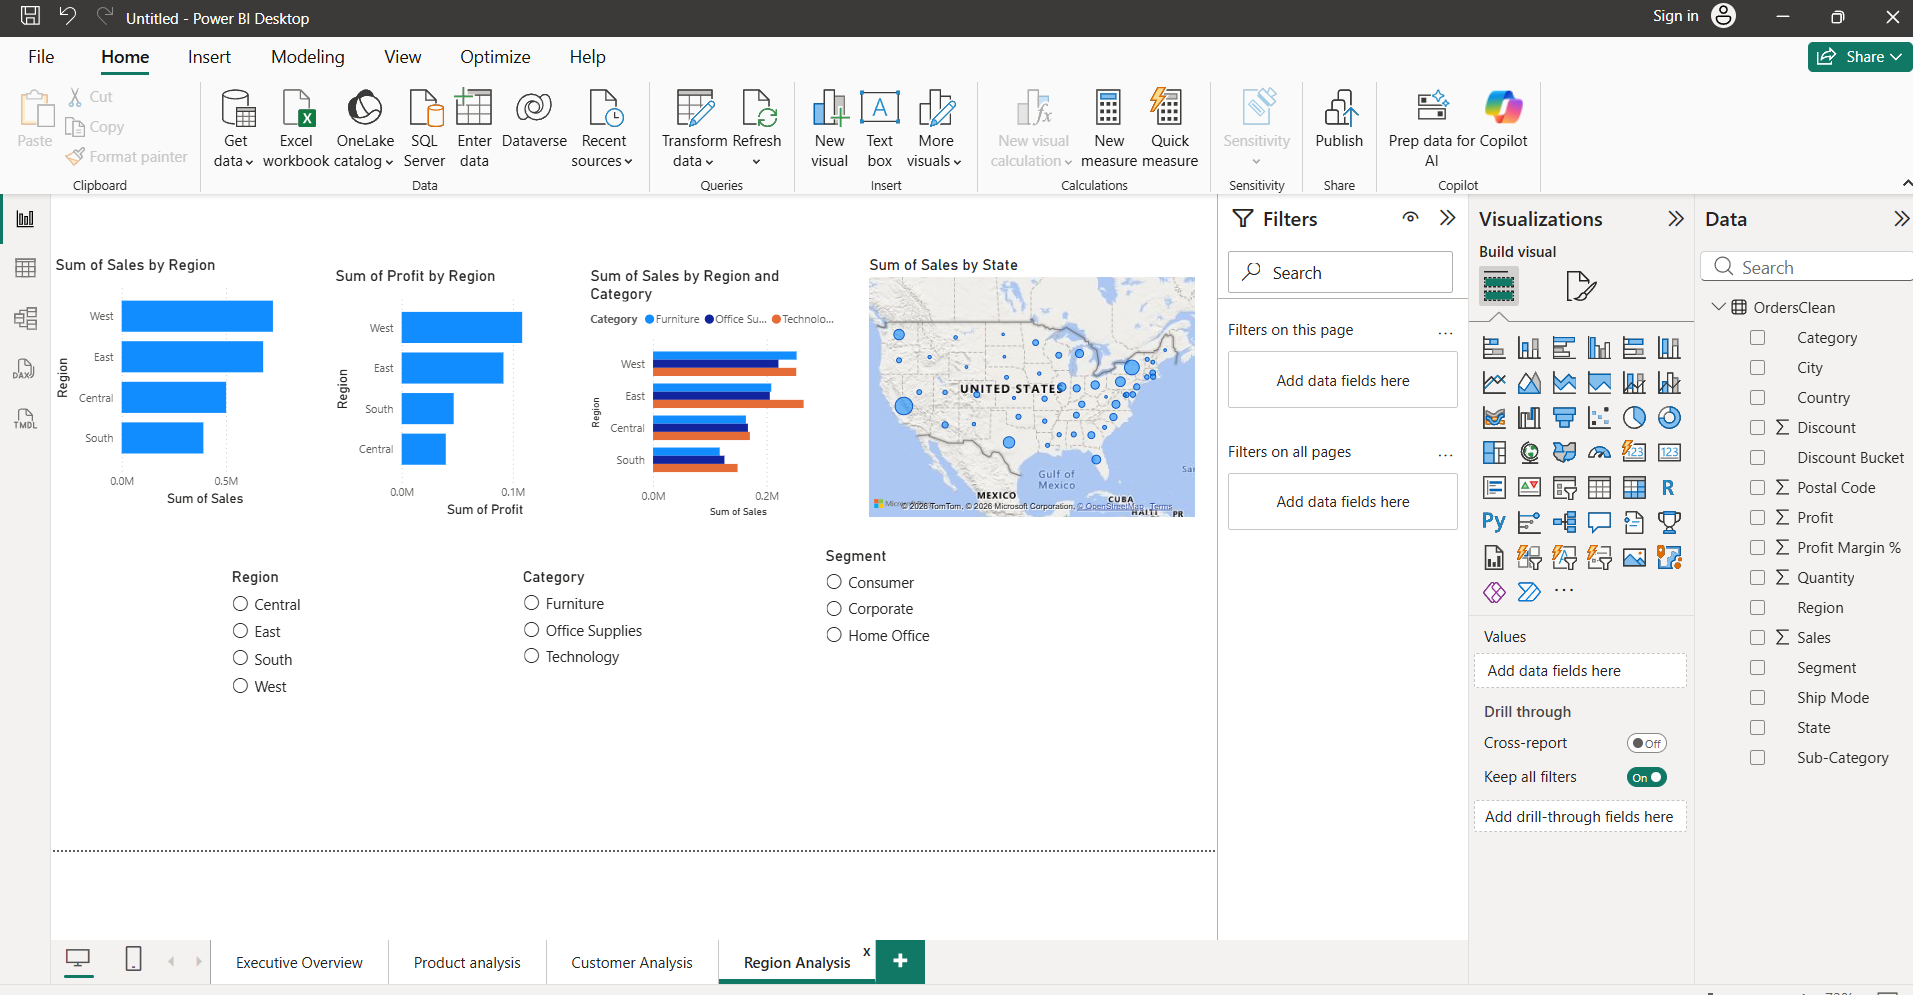

The dashboard page shown, as its layout file describes it:
{"tool":"powerbi","page":{"name":"Region Analysis","canvas":[1280,720],"ordinal":3},"visuals":[{"type":"clusteredBarChart","fields":{"Category":["OrdersClean.Region"],"Y":["Sum(OrdersClean.Sales)"]},"box":[0,67.2,279.9,279.9],"z":0},{"type":"clusteredBarChart","fields":{"Category":["OrdersClean.Region"],"Y":["Sum(OrdersClean.Profit)"]},"box":[307.4,79.6,279.9,279.9],"z":1000},{"type":"clusteredBarChart","fields":{"Category":["OrdersClean.Region"],"Y":["Sum(OrdersClean.Sales)"],"Series":["OrdersClean.Category"]},"box":[587.3,79.6,279.9,279.9],"z":2000},{"type":"map","fields":{"Category":["OrdersClean.State"],"Size":["Sum(OrdersClean.Sales)"]},"box":[893.3,67.2,367.8,292.3],"z":3000},{"type":"slicer","title":"Segment Slicer","fields":{"Values":["OrdersClean.Segment"]},"box":[183.9,400.7,279.9,279.9],"z":3001},{"type":"slicer","title":"Region Slicer","fields":{"Values":["OrdersClean.Region"]},"box":[521.4,400.7,293.7,279.9],"z":3002},{"type":"slicer","title":"Category Slicer","fields":{"Values":["OrdersClean.Category"]},"box":[893.3,400.7,275.8,279.9],"z":3003}]}

Visuals, with their boxes on the page's 1280x720 design canvas (x1, y1, x2, y2). These are canvas units, not pixel positions in the 1913x995 screenshot, which may show the page scaled, cropped or inside an application window:
clusteredBarChart - OrdersClean.Region x Sum(OrdersClean.Sales): crop(0, 67, 280, 347)
clusteredBarChart - OrdersClean.Region x Sum(OrdersClean.Profit): crop(307, 80, 587, 360)
clusteredBarChart - OrdersClean.Region x Sum(OrdersClean.Sales): crop(587, 80, 867, 360)
map - OrdersClean.State x Sum(OrdersClean.Sales): crop(893, 67, 1261, 360)
"Segment Slicer" slicer: crop(184, 401, 464, 681)
"Region Slicer" slicer: crop(521, 401, 815, 681)
"Category Slicer" slicer: crop(893, 401, 1169, 681)
